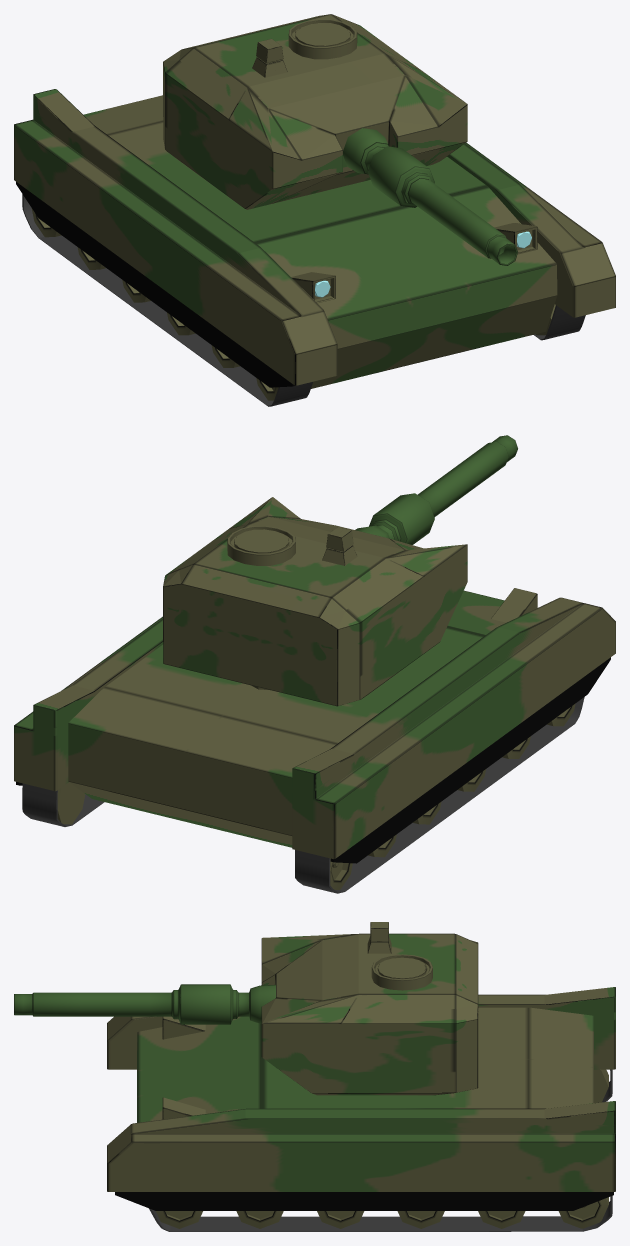
File: enemy.obj
3 renders of one model, top to bottom at view 1: azimuth 30°, elevation 25°; view 2: azimuth 150°, elevation 25°; view 3: azimuth 270°, elevation 25°, orthographic. The views are drawn at different scales.
Parts seen in each view (by area): view 1: 立方体.005, 立方体.008, 立方体.003, 立方体.006, 立方体.011, 立方体.007, 平面, 立方体.009, 円, 立方体.004; view 2: 立方体.008, 立方体.003, 立方体.005, 立方体.007, 立方体.011, 立方体.006, 円, 平面, 立方体.004, 立方体.009; view 3: 立方体.008, 立方体.003, 立方体.005, 立方体.011, 立方体.006, 立方体.007, 円, 平面, 立方体.009, 立方体.004.
Boxes of the visible parts, x1,y1,x2,y2 form: 立方体.005: [83, 95, 557, 388]; 立方体.008: [14, 89, 615, 385]; 立方体.003: [163, 14, 467, 209]; 立方体.006: [343, 128, 517, 265]; 立方体.011: [16, 182, 295, 387]; 立方体.007: [22, 194, 585, 406]; 平面: [288, 19, 357, 59]; 立方体.009: [291, 223, 537, 303]; 円: [31, 208, 555, 400]; 立方体.004: [252, 39, 287, 77]; 立方体.008: [14, 597, 615, 859]; 立方体.003: [163, 497, 467, 706]; 立方体.005: [68, 590, 505, 847]; 立方体.007: [22, 697, 584, 893]; 立方体.011: [16, 657, 610, 863]; 立方体.006: [355, 435, 517, 544]; 円: [57, 703, 575, 889]; 平面: [227, 526, 295, 565]; 立方体.004: [322, 527, 357, 565]; 立方体.009: [491, 588, 537, 622]; 立方体.008: [107, 987, 615, 1191]; 立方体.003: [261, 933, 478, 1095]; 立方体.005: [137, 1007, 593, 1122]; 立方体.011: [115, 1192, 613, 1210]; 立方体.006: [14, 984, 275, 1024]; 立方体.007: [149, 1069, 612, 1231]; 円: [156, 1069, 608, 1228]; 平面: [371, 954, 432, 990]; 立方体.009: [162, 1016, 205, 1119]; 立方体.004: [367, 922, 391, 953].
Bounding box in the file's own units: 7.5 × 5.53 × 13.48.
Materials: 4 (4 with a texture image).
